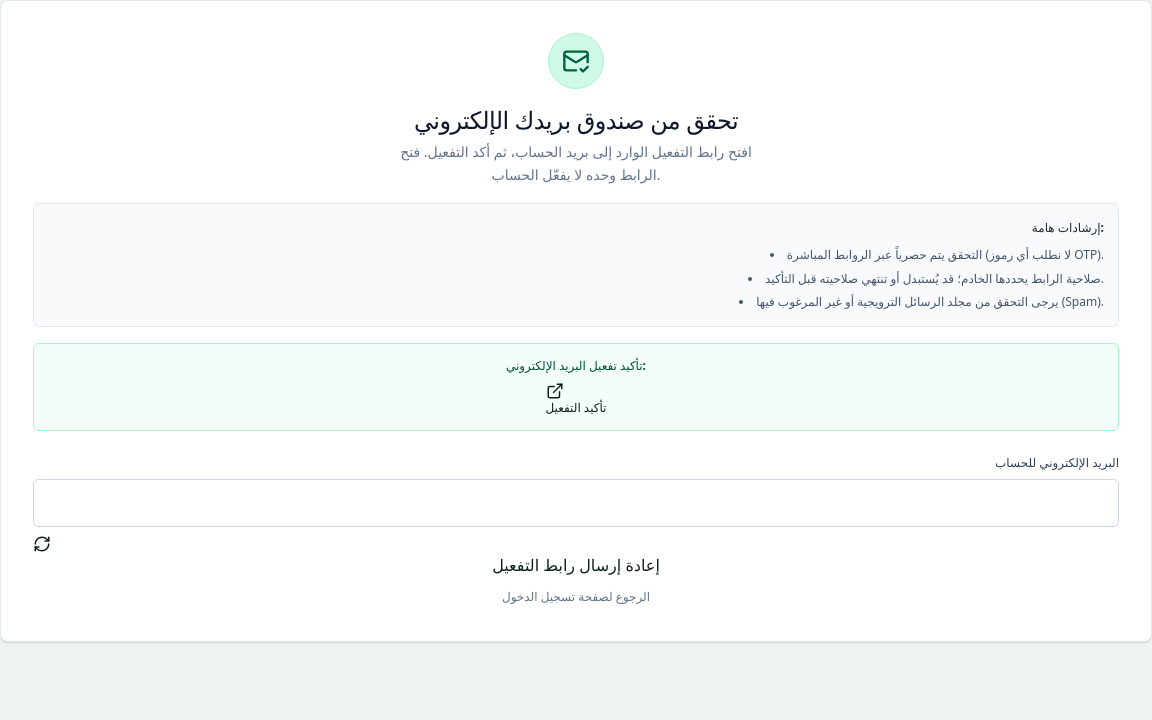
Test case: US2 registration and explicit activation › shows neutral resend rate limiting and allows an explicit corrected request
Type "pending@example.test" into the field labelled "البريد الإلكتروني للحساب" at (576, 502), box [33,478,1119,526]
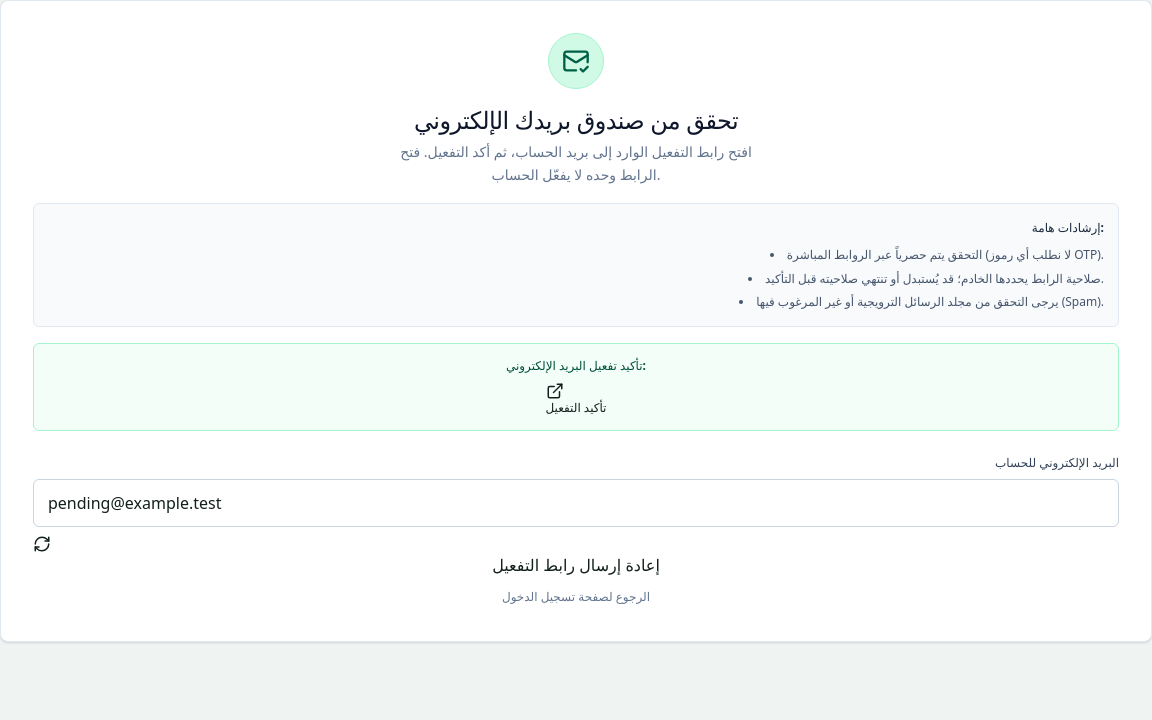
Click the button "إعادة إرسال رابط التفعيل" at (576, 556), box [33,534,1119,576]
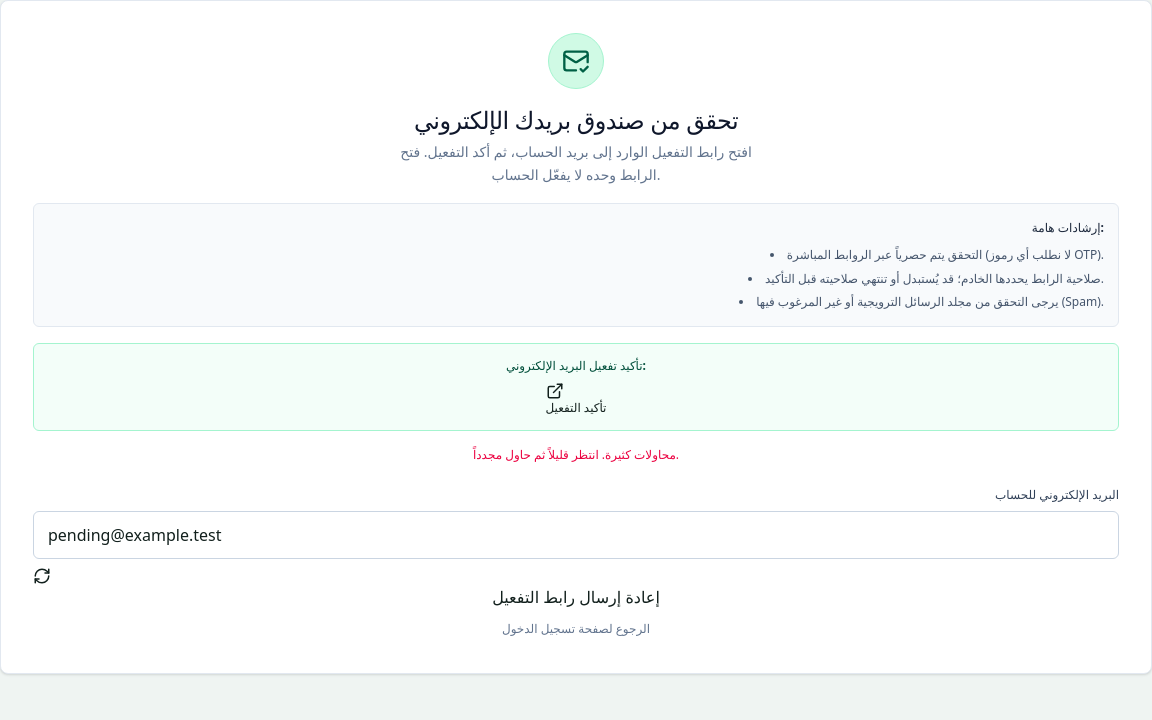
Expected: the message shows "محاولات كثيرة", [473,446,679,462]
Click the button "إعادة إرسال رابط التفعيل" at (576, 588), box [33,566,1119,608]
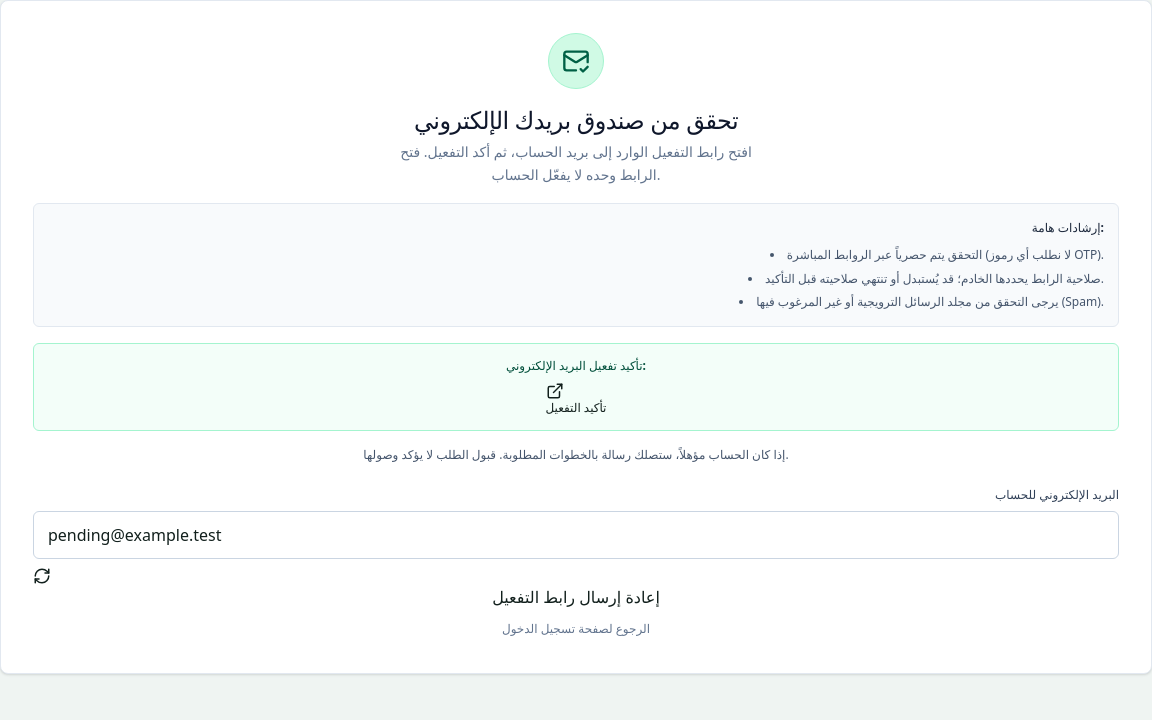
Expected: the message shows "إذا كان الحساب مؤهلاً", [363,446,789,462]
